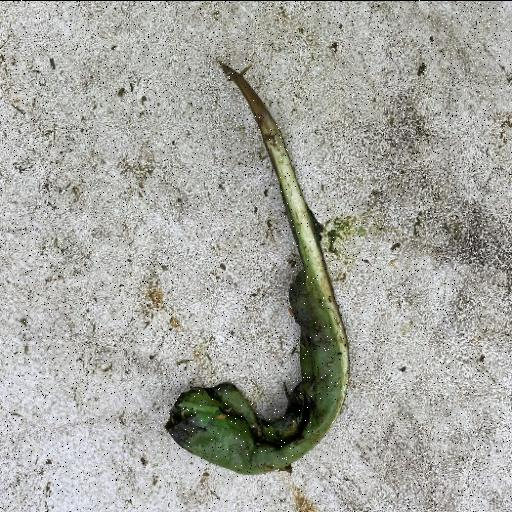Waste: (162, 56, 352, 476)
